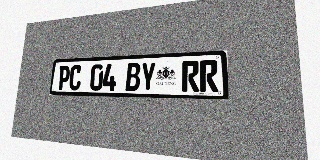0: (89, 64, 104, 91)
4: (102, 64, 117, 91)
B: (125, 63, 141, 91)
C: (68, 65, 82, 90)
P: (57, 65, 71, 90)
R: (200, 60, 218, 92), (182, 60, 199, 92)
Y: (140, 62, 156, 91)
